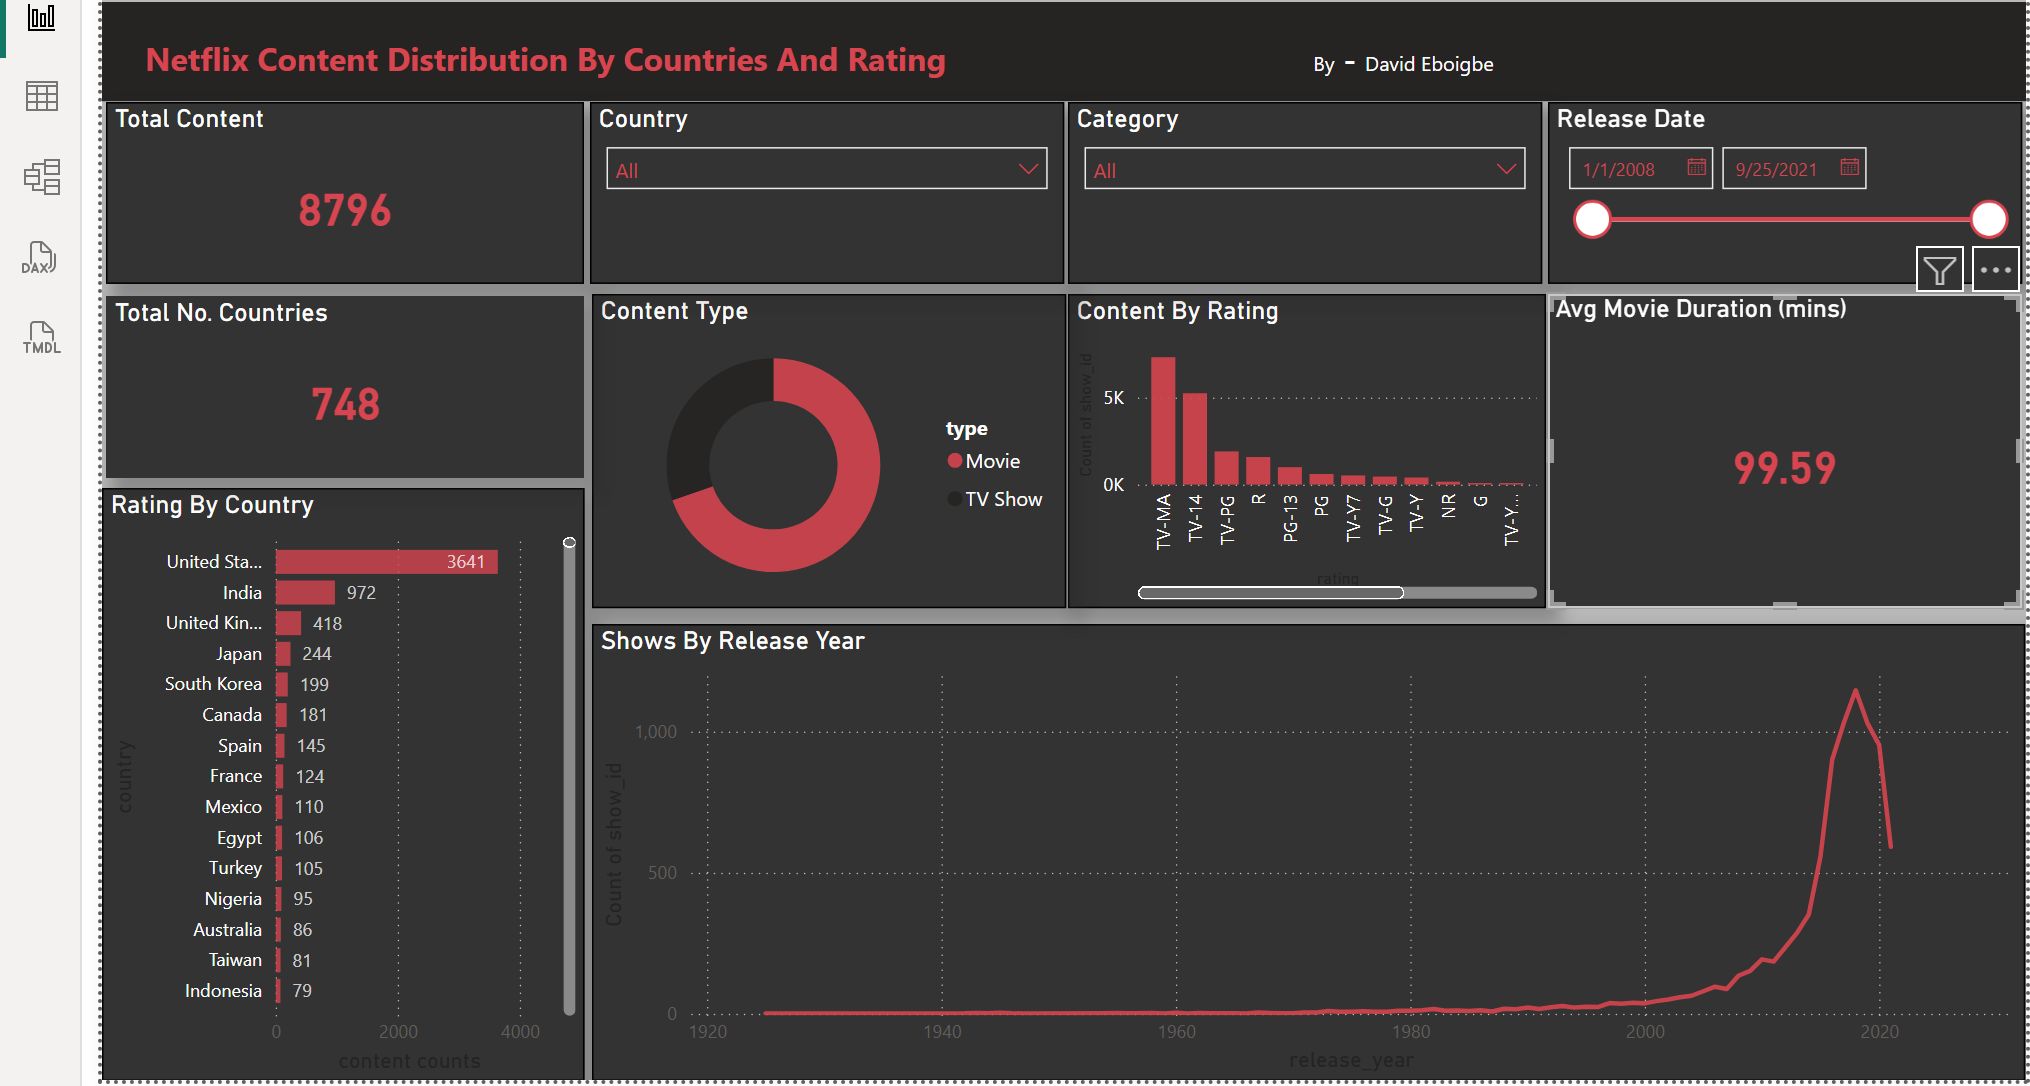

The dashboard page shown, as its layout file describes it:
{"tool":"powerbi","page":{"name":"Page 1","canvas":[1280,720],"ordinal":0},"visuals":[{"type":"clusteredBarChart","title":"Rating By Country","fields":{"Category":["netflix_titles.country"],"Y":["category_mapping.content counts"]},"box":[0,325.4,321.1,394.6],"z":0},{"type":"lineChart","title":"Shows By Release Year","fields":{"Category":["netflix_titles.release_year"],"Y":["CountNonNull(netflix_titles.show_id)"]},"box":[325.4,416.2,953.3,303.8],"z":1000},{"type":"textbox","box":[0,2.9,1285.9,66.2],"z":2000},{"type":"clusteredColumnChart","title":"Content By Rating","fields":{"Category":["netflix_titles.rating"],"Y":["CountNonNull(category_mapping.show_id)"]},"box":[642.2,197.3,318.2,208.8],"z":3000},{"type":"card","title":"Total Content","fields":{"Values":["Count(netflix_titles.show_id)"]},"box":[2.9,69.1,318.2,121],"z":4000},{"type":"donutChart","title":"Content Type","fields":{"Category":["netflix_titles.type"],"Y":["CountNonNull(netflix_titles.show_id)"]},"box":[325.4,197.3,315.4,208.8],"z":5000},{"type":"slicer","title":"Country","fields":{"Values":["netflix_titles.country"]},"box":[324.5,69.1,315.4,121],"z":6000},{"type":"slicer","title":"Category","fields":{"Values":["netflix_titles.First Category"]},"box":[643.2,69.1,315.4,121],"z":7000},{"type":"slicer","title":"Release Date","fields":{"Values":["netflix_titles.date_added"]},"box":[961.9,69.1,315.4,121],"z":8000},{"type":"card","title":"Total No. Countries","fields":{"Values":["Count(netflix_titles.country)"]},"box":[2.9,198.7,318.2,121],"z":9000},{"type":"card","title":"Avg Movie Duration (mins)","fields":{"Values":["Avg(netflix_titles.Duration in mins)"]},"box":[962,197,315,209],"z":10000}]}

Visuals, with their boxes in screenshot pixels (x1, y1, x2, y2):
"Rating By Country" clusteredBarChart: BBox(95, 483, 572, 1069)
"Shows By Release Year" lineChart: BBox(578, 618, 1993, 1069)
textbox: BBox(95, 4, 2004, 103)
"Content By Rating" clusteredColumnChart: BBox(1048, 293, 1521, 603)
"Total Content" card: BBox(99, 103, 572, 282)
"Content Type" donutChart: BBox(578, 293, 1046, 603)
"Country" slicer: BBox(577, 103, 1045, 282)
"Category" slicer: BBox(1050, 103, 1518, 282)
"Release Date" slicer: BBox(1523, 103, 1991, 282)
"Total No. Countries" card: BBox(99, 295, 572, 475)
"Avg Movie Duration (mins)" card: BBox(1523, 292, 1991, 603)
